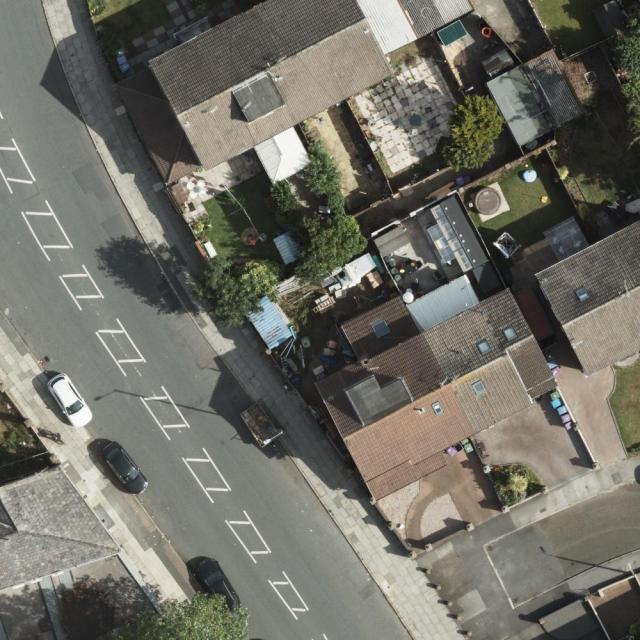roof: (111, 0, 476, 191), (317, 277, 559, 508), (536, 221, 640, 379), (0, 466, 124, 596)
skylight: (472, 337, 493, 360), (370, 319, 391, 339), (469, 377, 488, 398), (572, 284, 589, 306), (499, 326, 517, 344), (428, 399, 443, 418)
